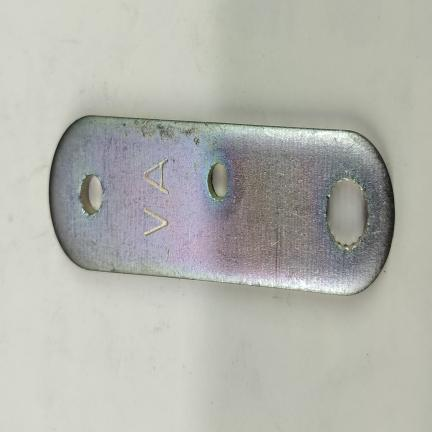black mark after electroplating: (136, 117, 213, 133)
